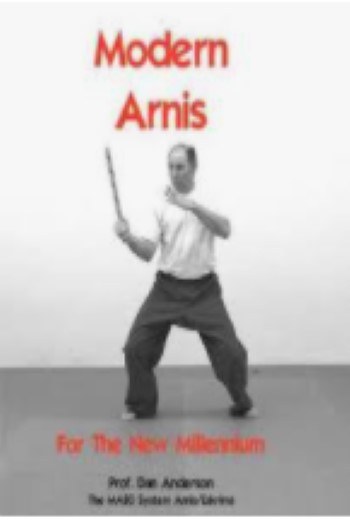baston_e: (104, 150, 127, 219)
baston_v: (101, 141, 114, 153)
